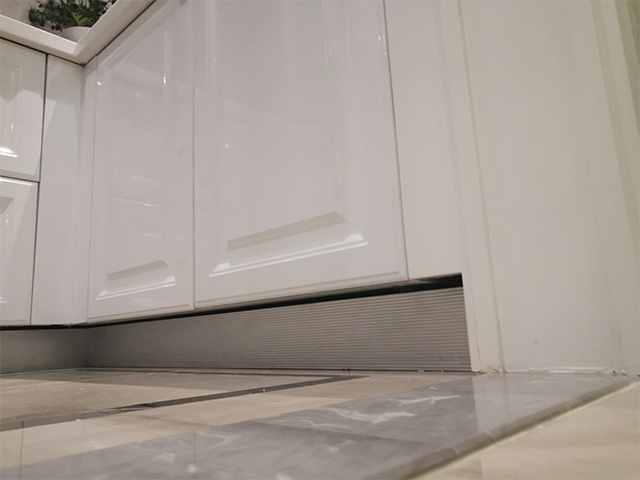cabinet: (66, 1, 474, 376)
